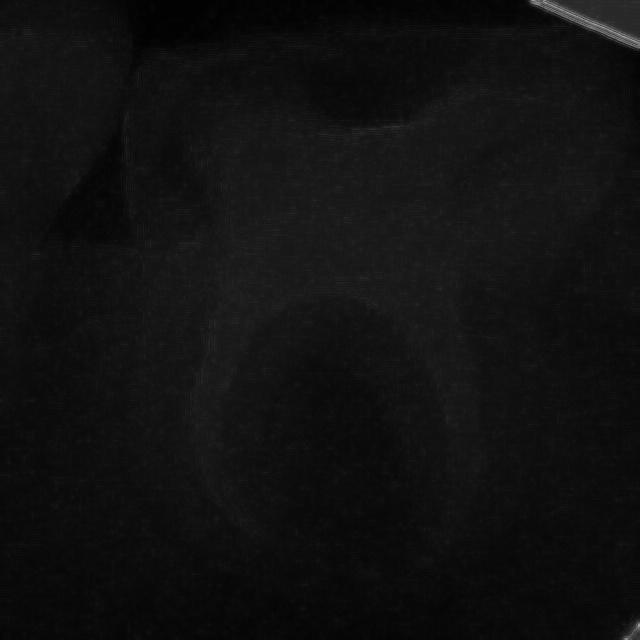Class 0- No endodontic treatment: (90, 163, 630, 618)
